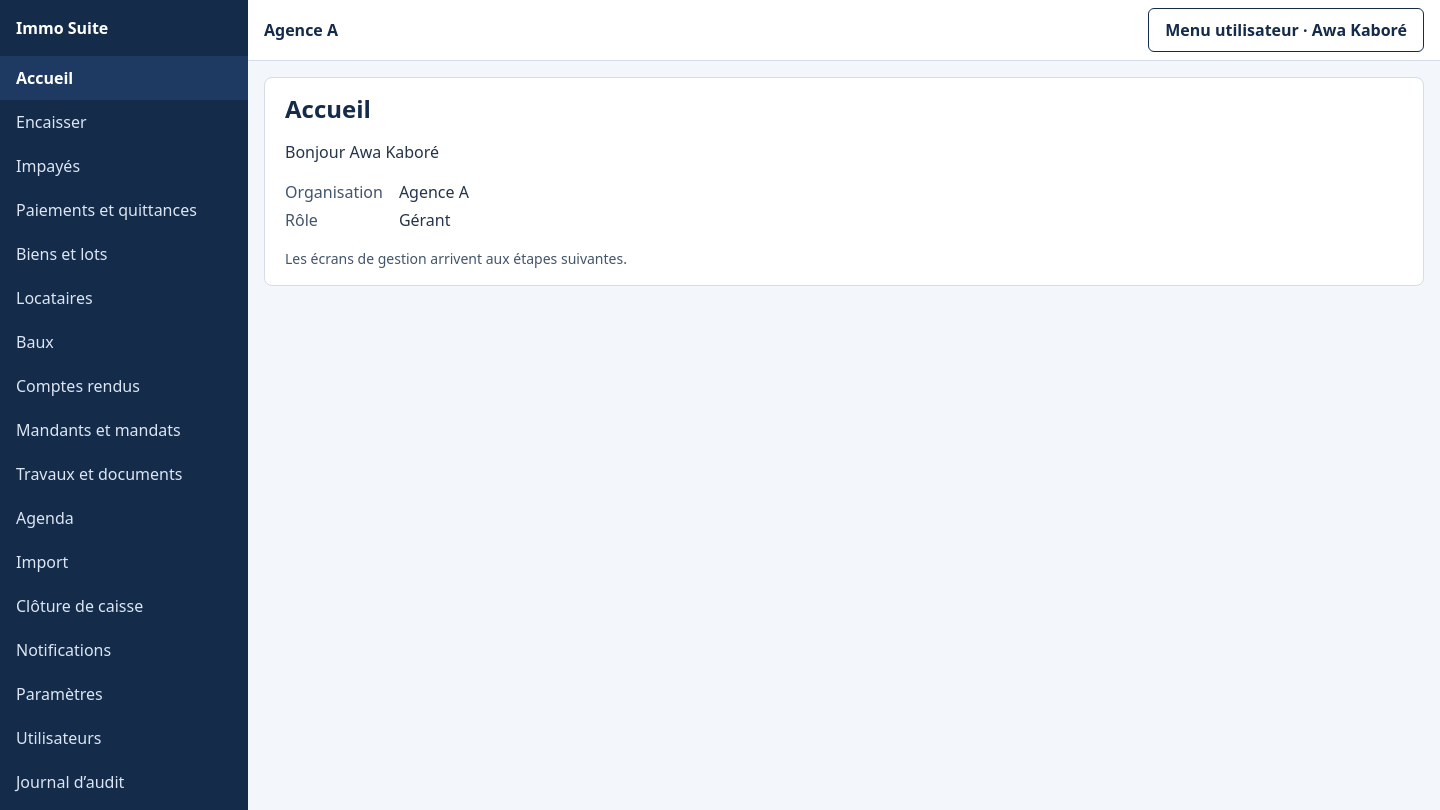
Test: « Signaler un problème » › une limite de débit affiche le message du catalogue et garde la description
This screenshot has width=1440, height=810.
Click the button "Menu utilisateur · Awa Kaboré": (1286, 30) [1148,8,1424,52]
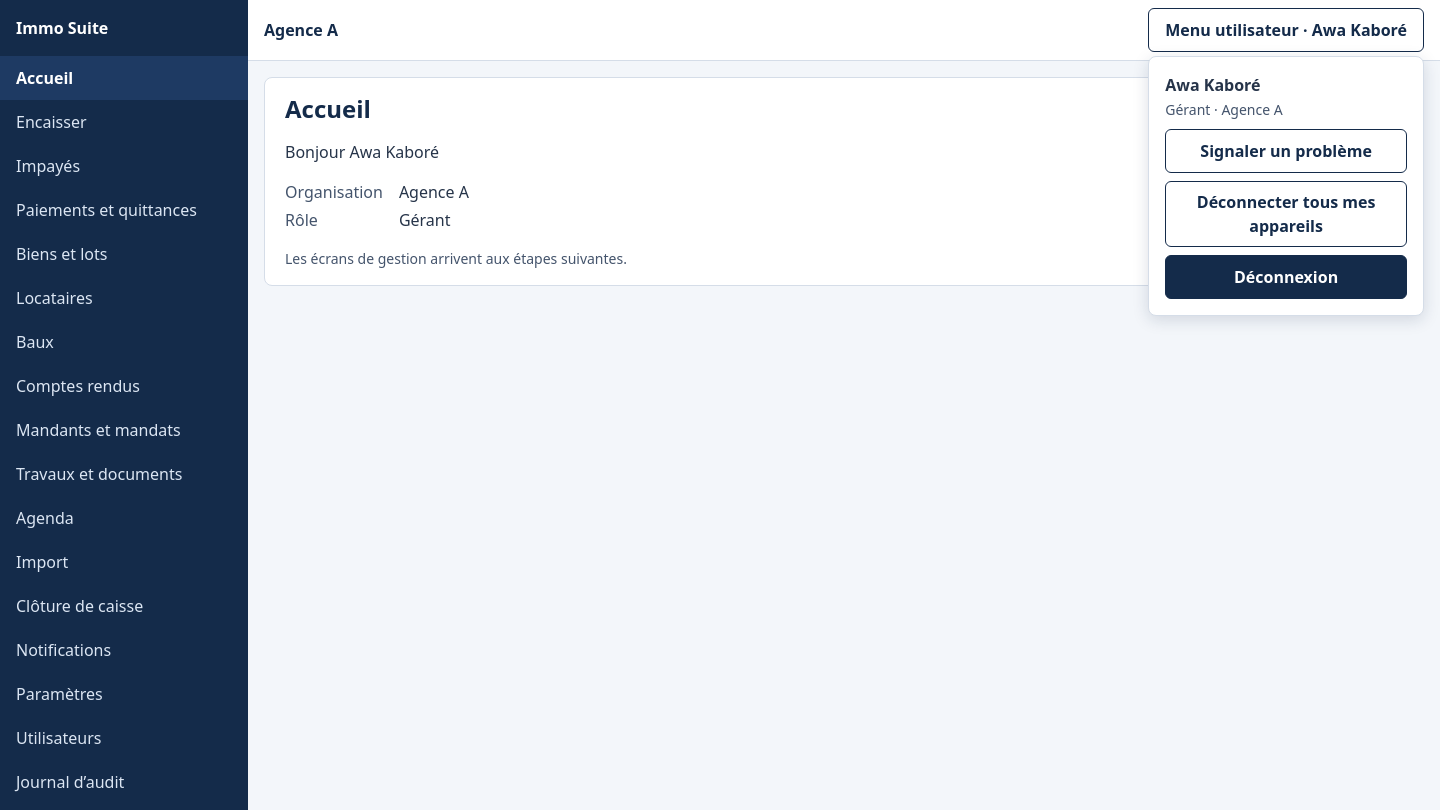
Click the button "Signaler un problème": (1286, 151) [1165,129,1407,173]
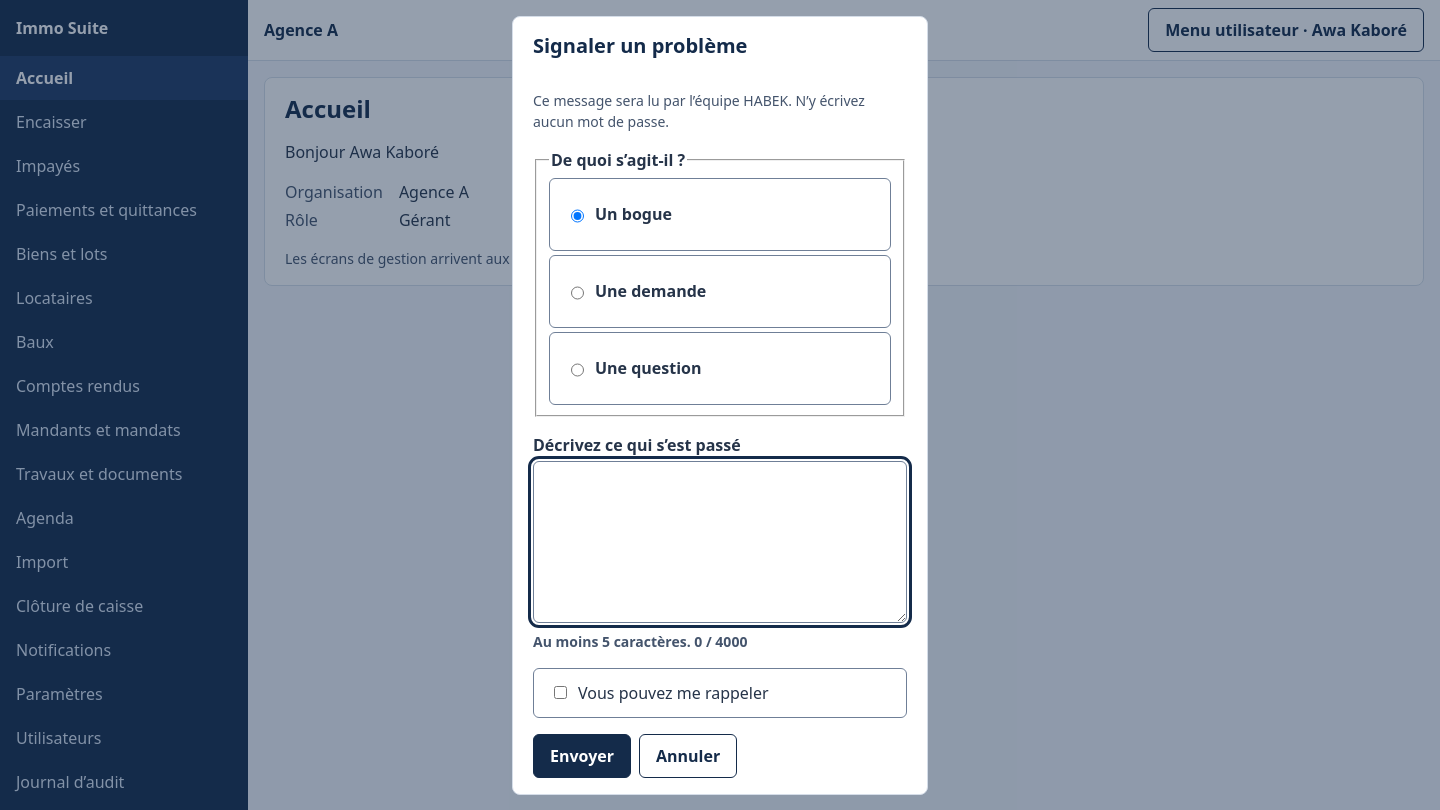
In the text box labelled "Décrivez ce qui s’est passé": (720, 542) [533,461,907,623], type "Un message assez long"
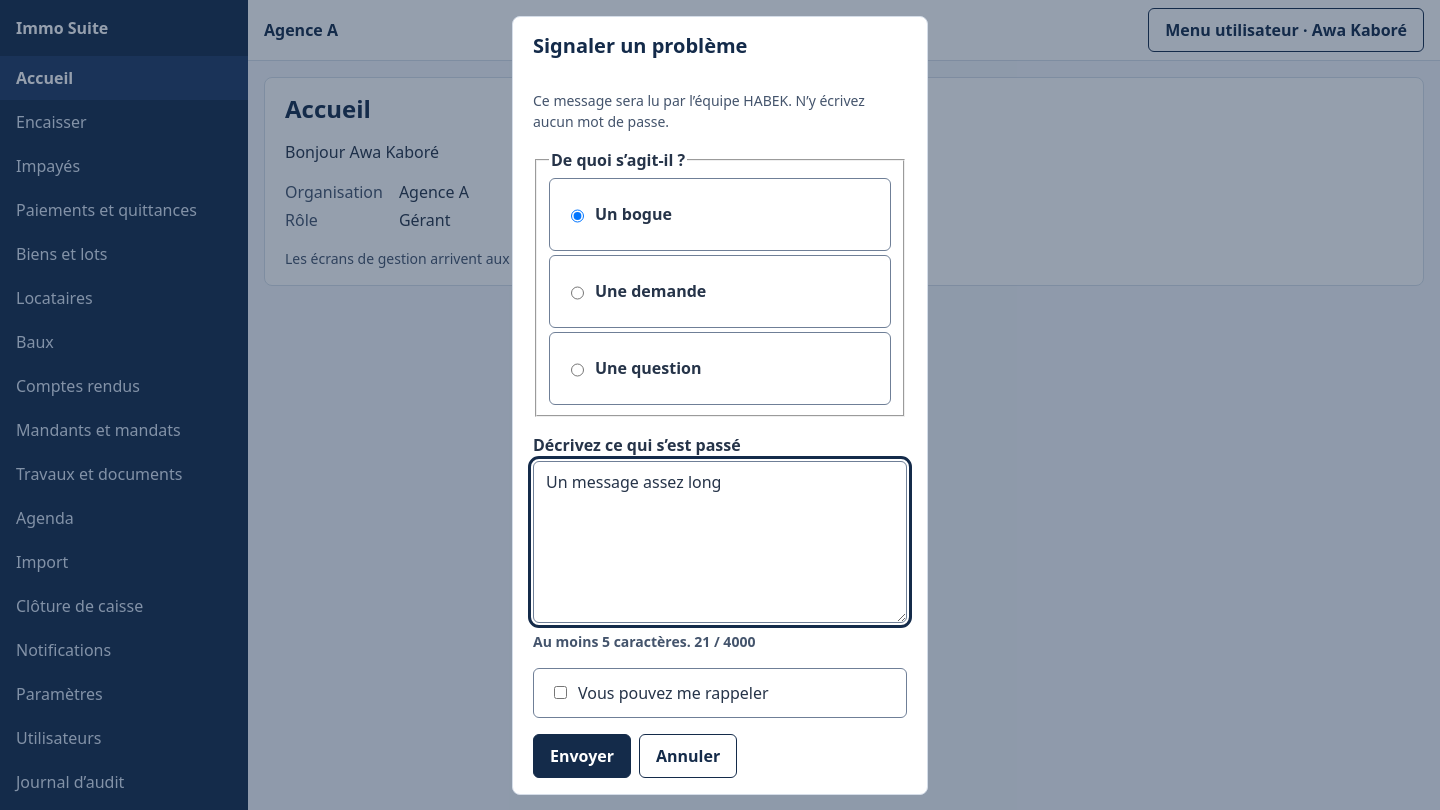
Click the button "Envoyer": (582, 756) [533,734,631,778]
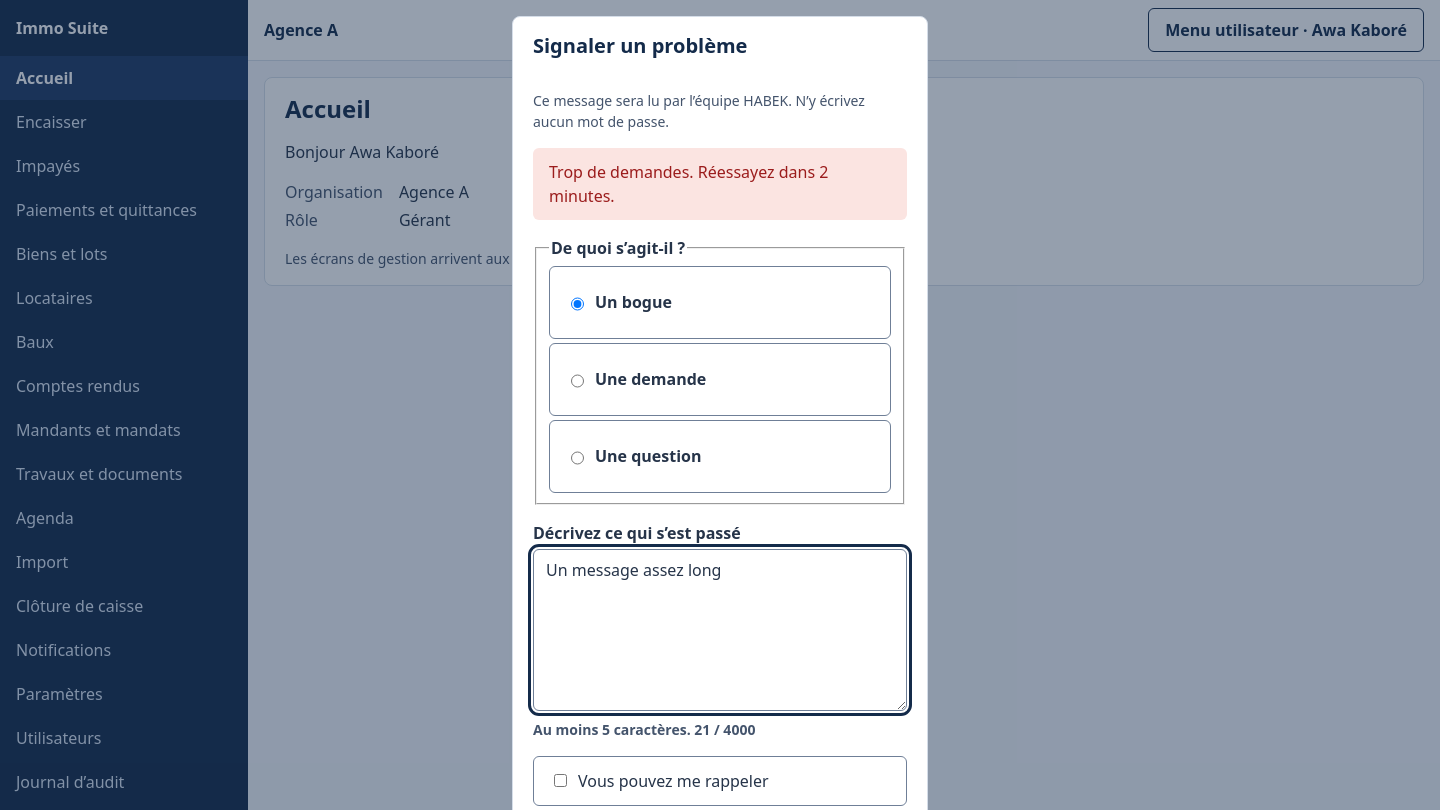
Now the message reads "Trop de demandes. Réessayez dans 2 minutes.", box [549,161,828,207]
